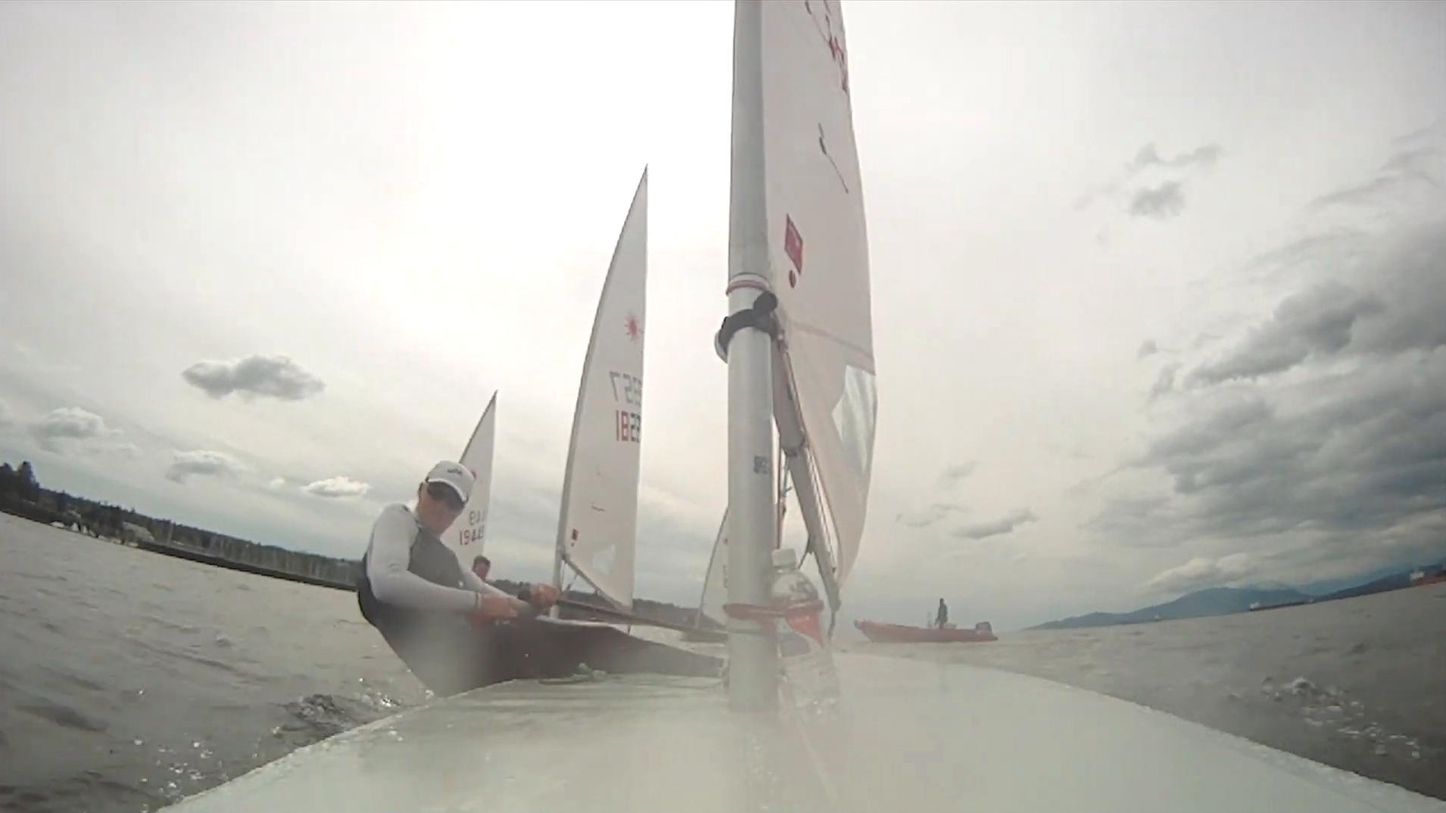boat: (156, 0, 1446, 813)
land: (0, 463, 354, 592), (503, 590, 728, 647)
person: (357, 461, 728, 698)
sea: (0, 512, 432, 813), (859, 582, 1446, 800)
sky: (0, 0, 736, 609), (840, 0, 1446, 636)
